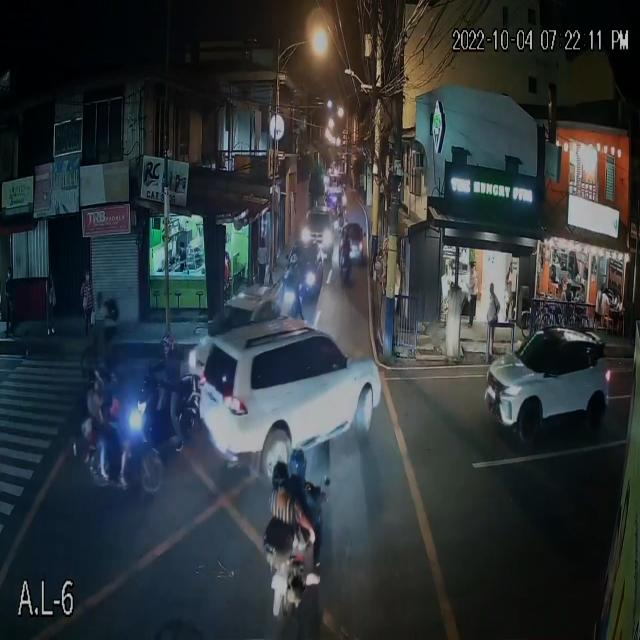Full-Faced: (274, 461, 290, 492)
